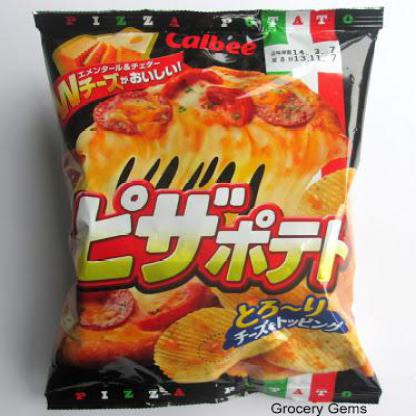potatochip: (30, 2, 386, 410)
